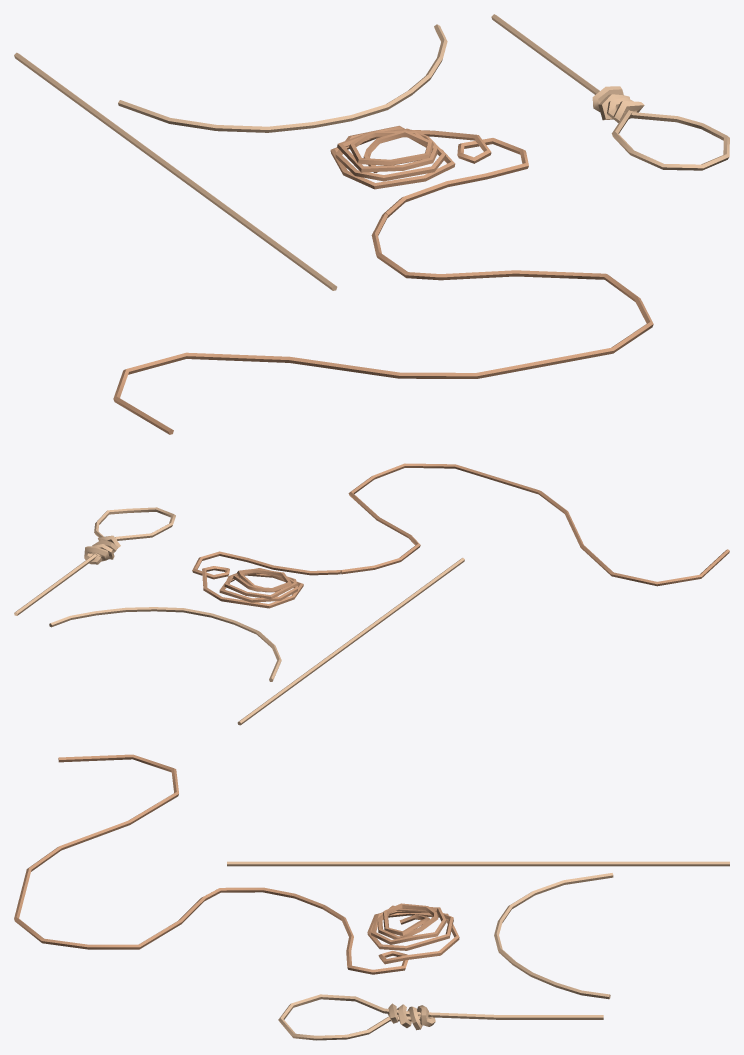
Rendered from Rope_Lowpoly_Group.fbx.
3 renders of one model, top to bottom at view 1: azimuth 30°, elevation 25°; view 2: azimuth 150°, elevation 25°; view 3: azimuth 270°, elevation 25°, orthographic. The views are drawn at different scales.
Visible parts, largest first — view 1: sweep1, sweep5, sweep3, sweep6, sweep2, sweep4; view 2: sweep1, sweep5, sweep6, sweep2, sweep3, sweep4; view 3: sweep1, sweep5, sweep6, sweep3, sweep2, sweep4.
Boxes of the visible parts, x1,y1,x2,y2 form: sweep1: (330,125,528,217); sweep5: (113,213,653,434); sweep3: (491,14,729,170); sweep6: (14,52,337,290); sweep2: (118,24,447,132); sweep4: (592,86,644,122); sweep1: (192,551,340,608); sweep5: (340,463,729,586); sweep6: (237,558,464,725); sweep2: (49,607,281,681); sweep3: (14,507,175,615); sweep4: (84,535,120,564); sweep1: (322,903,459,974); sweep5: (14,754,323,949); sweep6: (227,861,729,866); sweep3: (278,994,603,1040); sweep2: (494,873,613,999); sweep4: (388,1003,435,1030).
Size of the model in its own units: 70.14 by 3.02 by 75.17.
2 materials, 2 textured.
